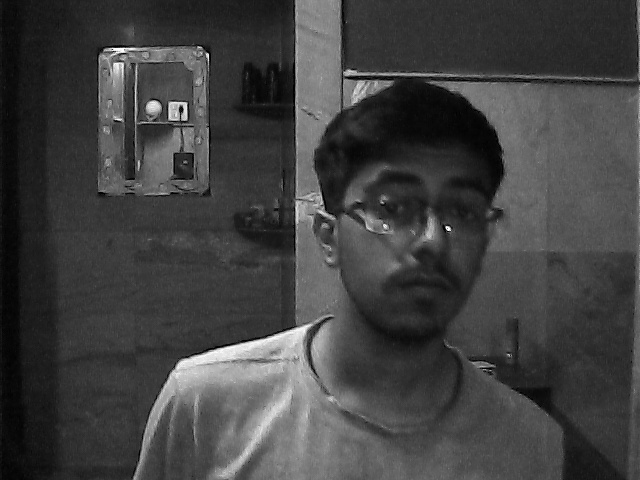nomask: (334, 133, 502, 343)
